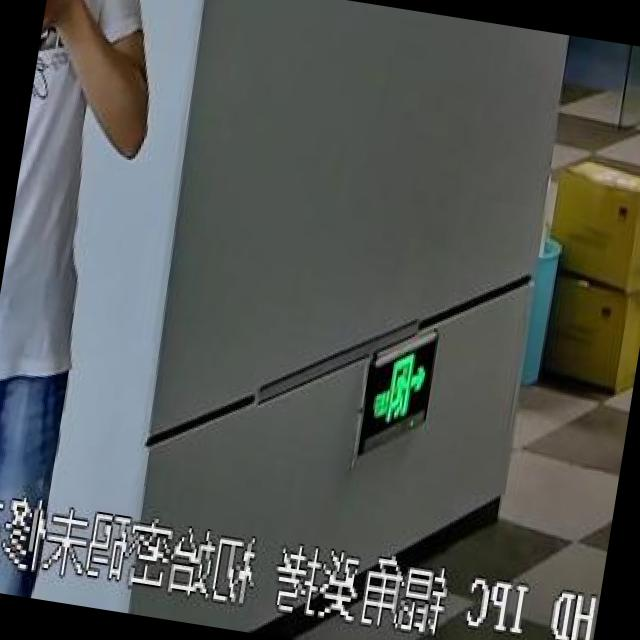Guns: (23, 0, 62, 153)
